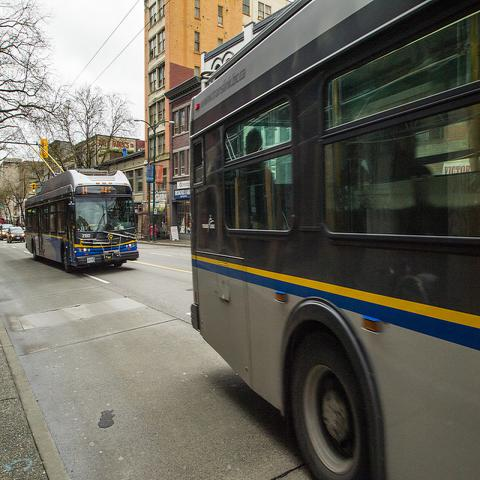bus: (188, 1, 480, 476), (21, 165, 142, 273)
car: (7, 227, 25, 242), (0, 224, 14, 237)
